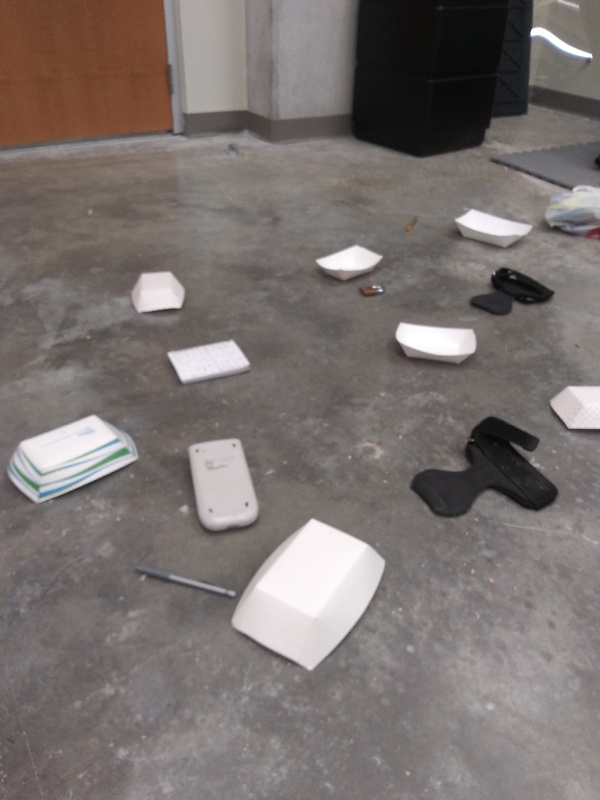plate: (224, 516, 388, 675), (4, 410, 146, 507), (392, 317, 482, 368), (449, 205, 537, 254), (542, 378, 600, 438), (314, 241, 389, 285), (129, 268, 191, 319)
